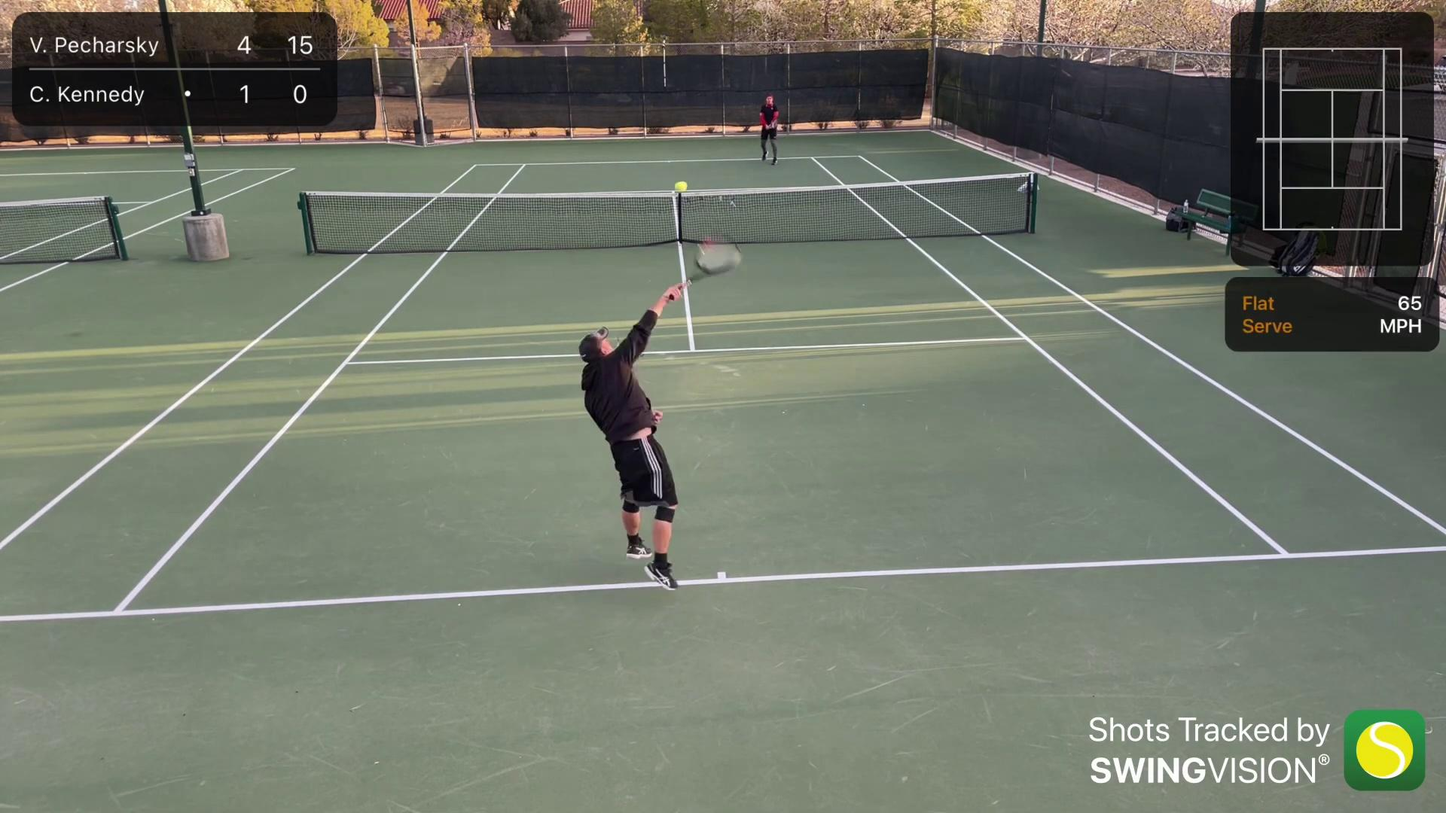ball: (673, 180, 689, 192)
